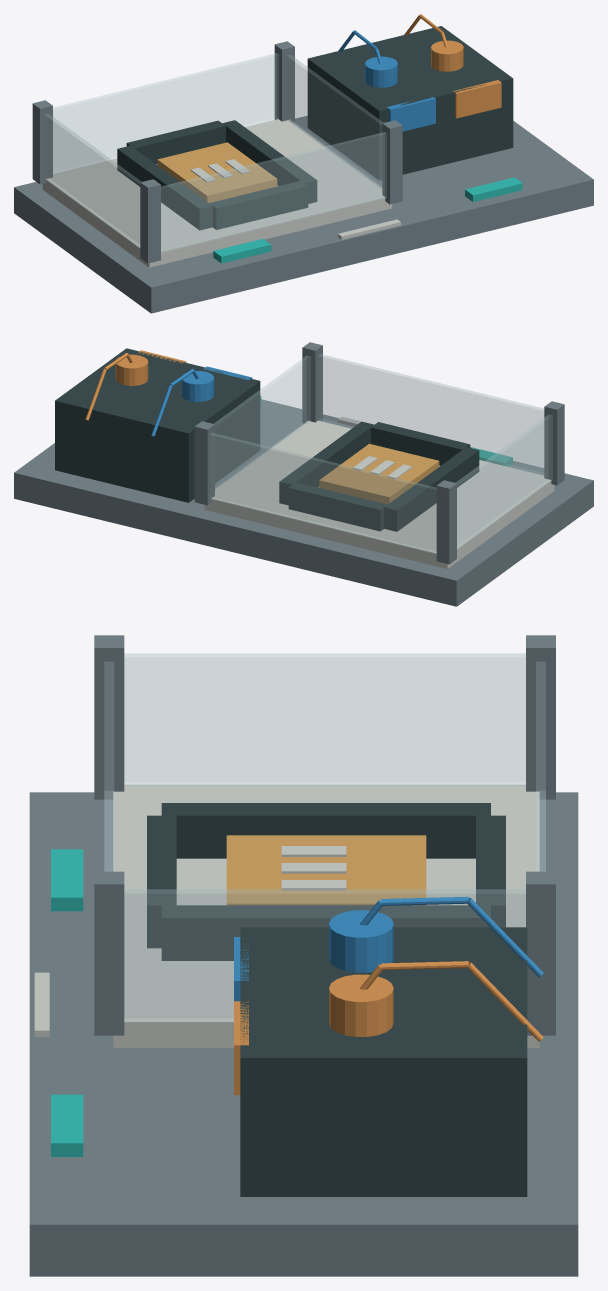
Rendered from dry-fixture.glb.
The picture shows the model from 3 angles, top to bottom: view 1: azimuth 30°, elevation 25°; view 2: azimuth 150°, elevation 25°; view 3: azimuth 270°, elevation 25°; orthographic projection. The views are drawn at different scales.
Visible parts, largest first — view 1: baseplate, separate_label_rack, dry_floor, fixed_clear_dry_endcaps, fixed_clear_dry_endcaps.001, fixed_clear_dry_walls, fixed_clear_dry_walls.001, solid_mock_block, fixed_mount_side, fixed_mount_end, fixed_mount_side.001, fixed_mount_end.001 (+11 smaller); view 2: baseplate, separate_label_rack, dry_floor, fixed_clear_dry_endcaps.001, fixed_clear_dry_endcaps, fixed_clear_dry_walls, fixed_clear_dry_walls.001, solid_mock_block, fixed_mount_side, fixed_mount_end.001, fixed_mount_side.001, fixed_mount_end (+7 smaller); view 3: baseplate, separate_label_rack, fixed_clear_dry_walls, dry_floor, fixed_clear_dry_walls.001, fixed_mount_side, solid_mock_block, fixed_mount_side.001, dry_guard_corner.002, dry_guard_corner, dry_guard_corner.001, dry_guard_corner.003 (+10 smaller).
Part boxes in pixels (x1,y1,x2,y2): baseplate: (14, 116, 593, 313); separate_label_rack: (307, 26, 513, 180); dry_floor: (42, 119, 392, 267); fixed_clear_dry_endcaps: (161, 132, 386, 252); fixed_clear_dry_endcaps.001: (53, 53, 278, 173); fixed_clear_dry_walls: (45, 114, 141, 248); fixed_clear_dry_walls.001: (287, 55, 383, 189); solid_mock_block: (157, 142, 277, 202); fixed_mount_side: (117, 145, 212, 230); fixed_mount_end: (209, 181, 308, 229); fixed_mount_side.001: (222, 120, 317, 203); fixed_mount_end.001: (126, 120, 225, 164); baseplate: (14, 399, 593, 606); separate_label_rack: (55, 348, 260, 502); dry_floor: (204, 420, 554, 568); fixed_clear_dry_endcaps.001: (210, 433, 436, 553); fixed_clear_dry_endcaps: (318, 354, 543, 474); fixed_clear_dry_walls: (456, 415, 552, 549); fixed_clear_dry_walls.001: (214, 356, 310, 490); solid_mock_block: (319, 443, 439, 504); fixed_mount_side: (384, 447, 479, 531); fixed_mount_end.001: (288, 482, 387, 531); fixed_mount_side.001: (279, 421, 373, 504); fixed_mount_end: (371, 422, 470, 465); baseplate: (29, 792, 578, 1276); separate_label_rack: (240, 927, 527, 1196); fixed_clear_dry_walls: (124, 653, 525, 785); dry_floor: (113, 784, 539, 1047); fixed_clear_dry_walls.001: (124, 889, 525, 1021); fixed_mount_side: (161, 803, 490, 858); solid_mock_block: (226, 835, 426, 905); fixed_mount_side.001: (161, 905, 490, 960); dry_guard_corner.002: (94, 871, 124, 1035); dry_guard_corner: (94, 635, 124, 799); dry_guard_corner.001: (526, 635, 555, 799); dry_guard_corner.003: (526, 871, 555, 1035).
Size of the model in its own units: 0.41 by 0.1184 by 0.22.
